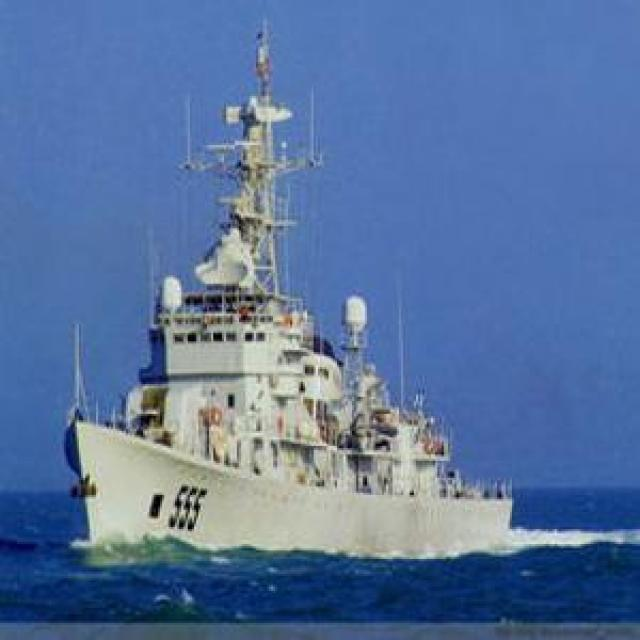navalvessels: (59, 12, 527, 565)
